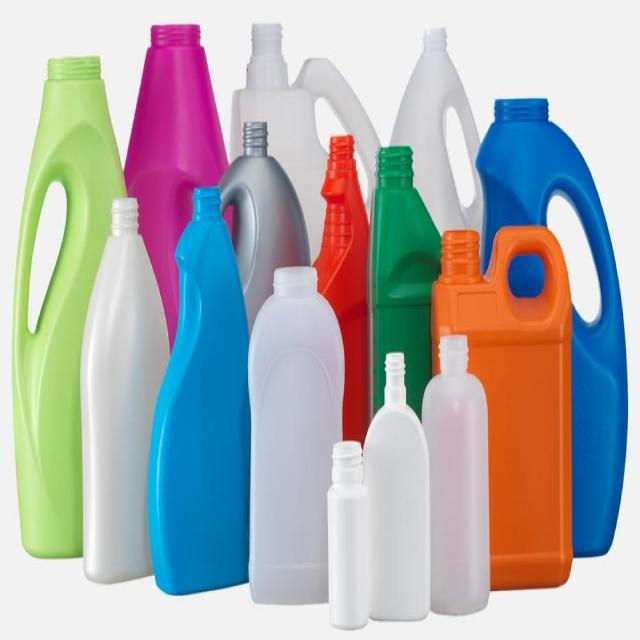plastic_bottle: (473, 74, 628, 563), (21, 49, 127, 575), (432, 236, 573, 585), (146, 180, 255, 609), (231, 13, 382, 291), (123, 14, 240, 341), (246, 255, 346, 624), (86, 181, 166, 600), (386, 9, 485, 262), (357, 335, 435, 640), (311, 125, 375, 456), (365, 135, 441, 411), (419, 339, 493, 612), (312, 424, 377, 640)
